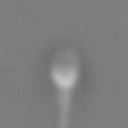normal: (49, 89, 82, 128)
